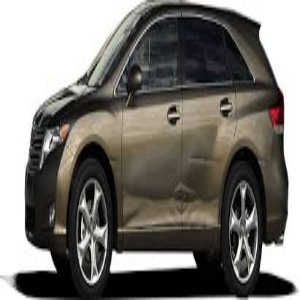bumper_scratch: (115, 131, 211, 241)
